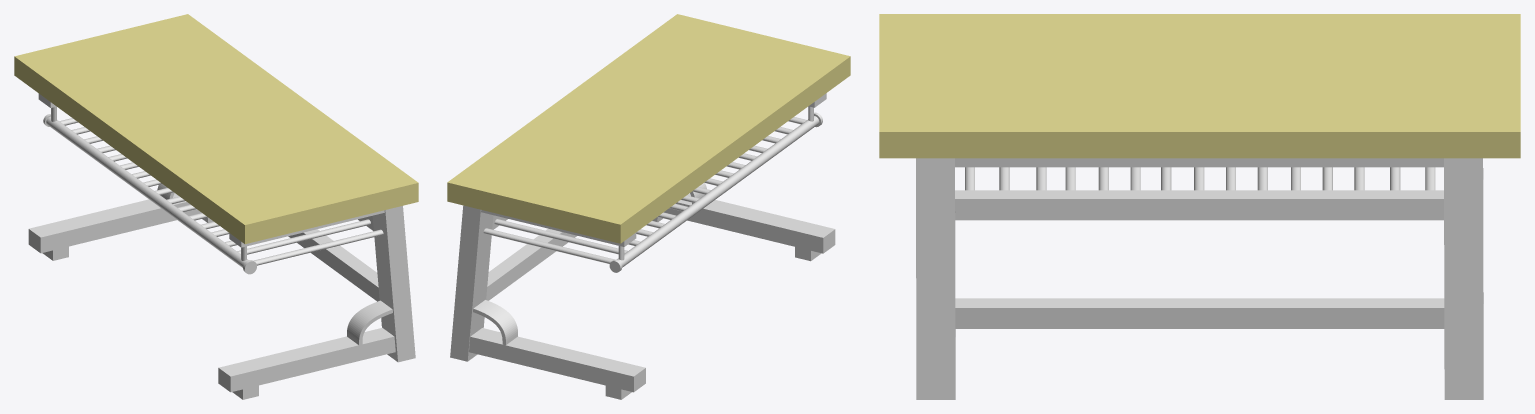
The model's file is Mesa photorealistica.fbx.
The picture shows the model from 3 angles, left to right: view 1: azimuth 30°, elevation 25°; view 2: azimuth 150°, elevation 25°; view 3: azimuth 270°, elevation 25°; orthographic projection. The views are drawn at different scales.
Visible parts, largest first — view 1: Cube, Cube.001, Rejilla; view 2: Cube, Cube.001, Rejilla; view 3: Cube, Cube.001, Rejilla.
Boxes of the visible parts, bbox=[...] form: Cube: bbox=[14, 14, 418, 244]; Cube.001: bbox=[28, 93, 415, 399]; Rejilla: bbox=[43, 106, 383, 274]; Cube: bbox=[447, 14, 850, 243]; Cube.001: bbox=[450, 93, 835, 399]; Rejilla: bbox=[483, 106, 822, 272]; Cube: bbox=[879, 14, 1520, 158]; Cube.001: bbox=[916, 158, 1483, 399]; Rejilla: bbox=[955, 167, 1443, 220].
Size of the model in its own units: 128 by 125 by 277.
